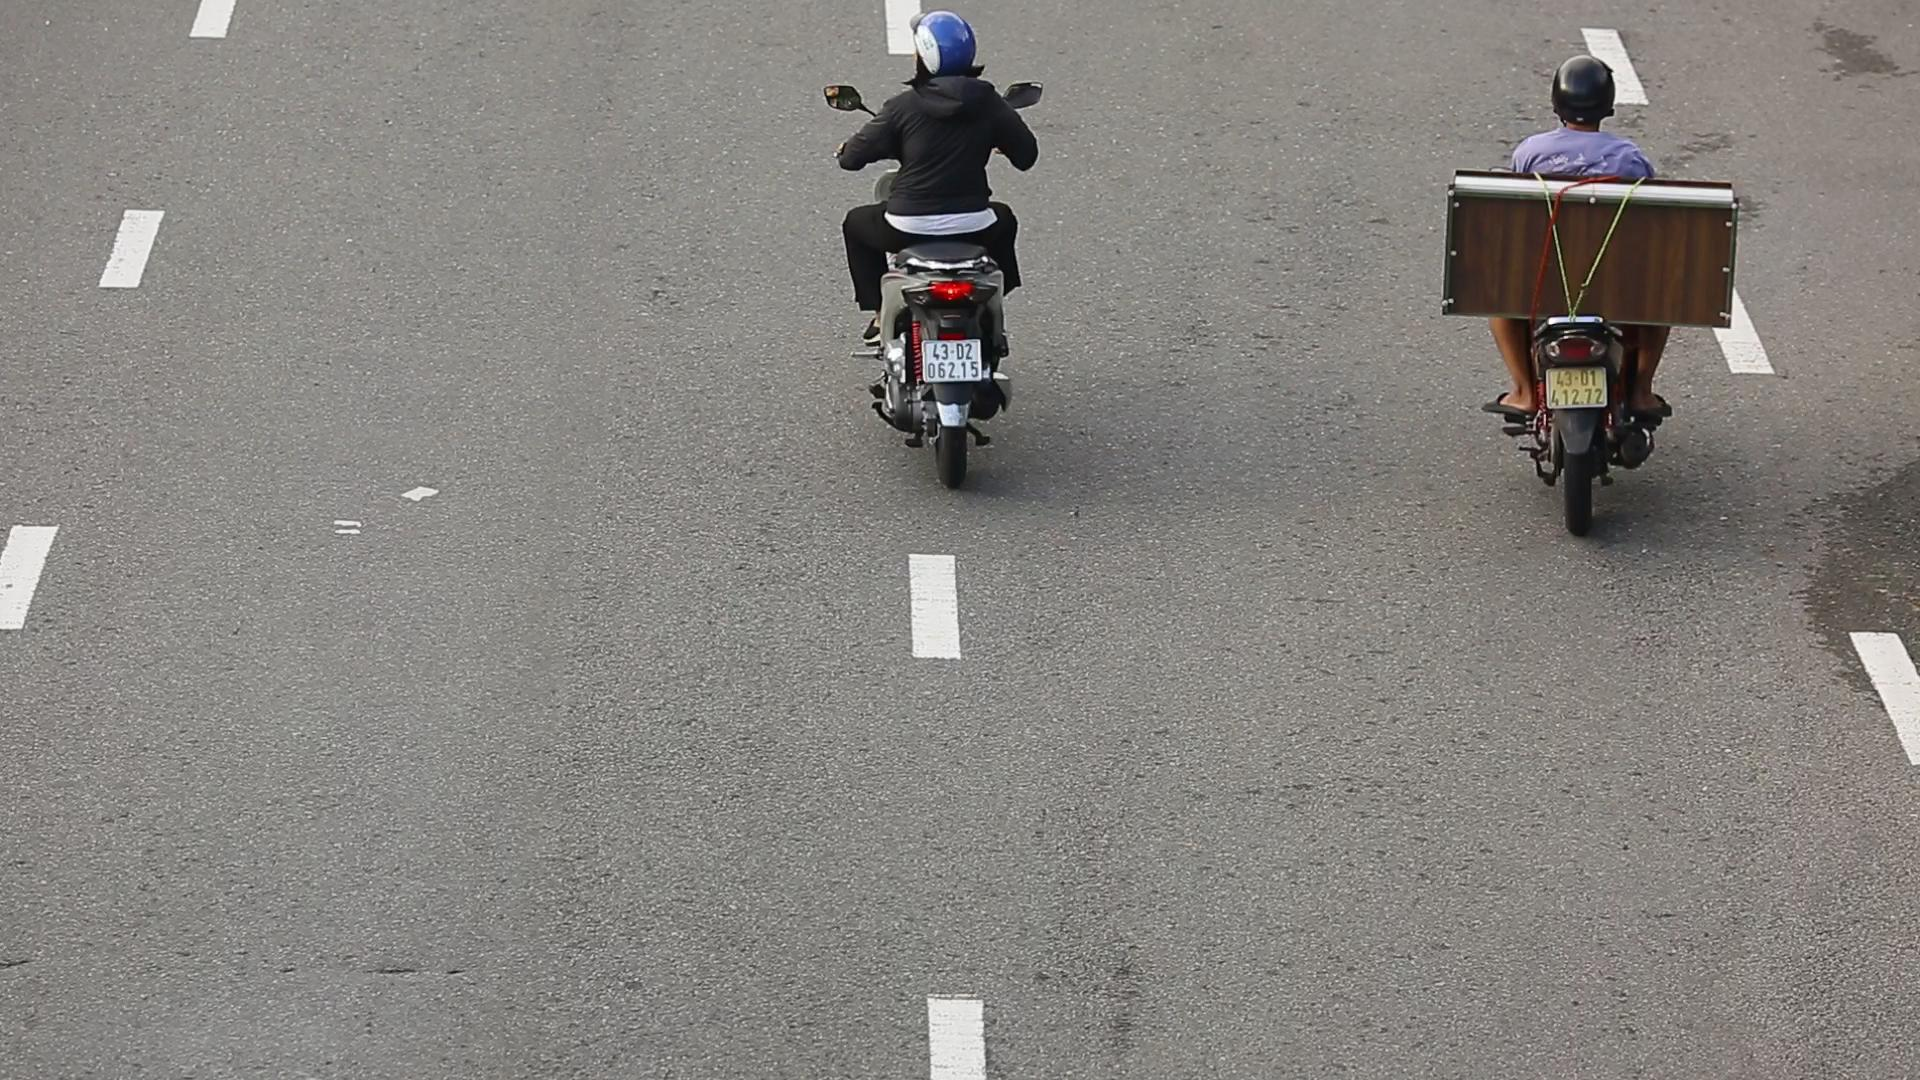motobike: (1420, 1, 1754, 554), (819, 7, 1093, 500)
